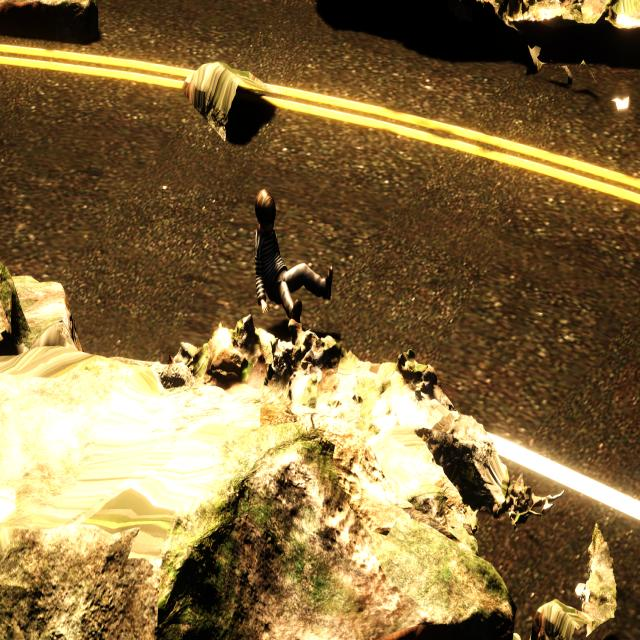Human: (247, 186, 338, 330)
